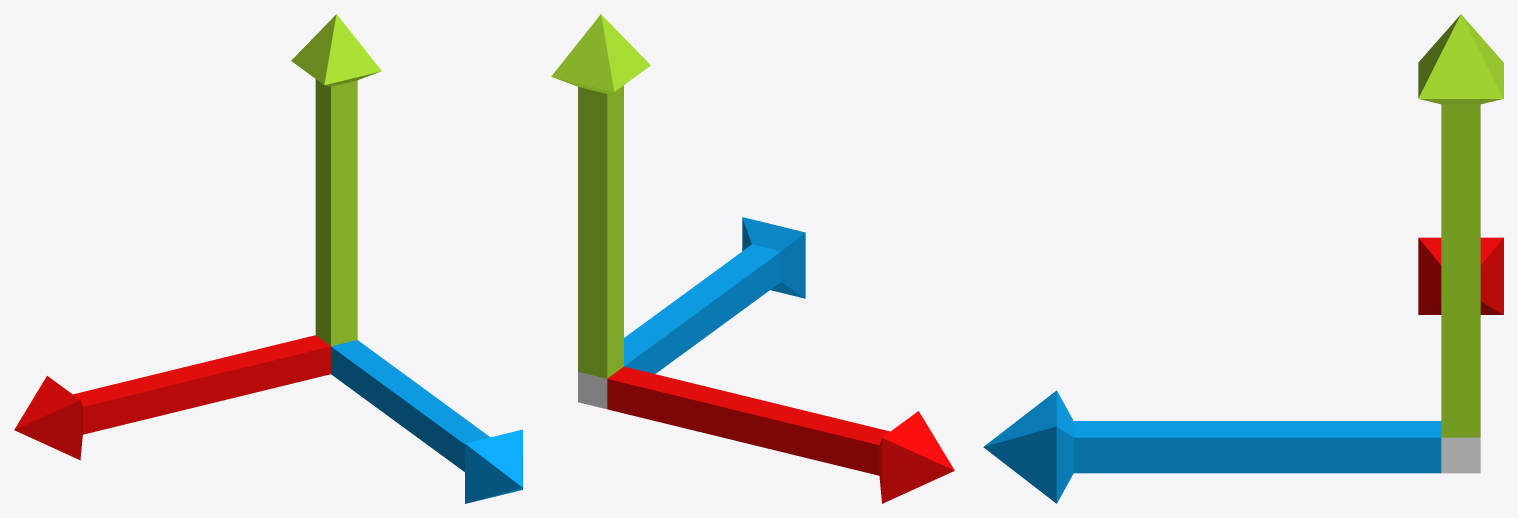
File: axis.glb
3 views of the same model, side by side, from view 1: azimuth 30°, elevation 25°; view 2: azimuth 150°, elevation 25°; view 3: azimuth 270°, elevation 25° (orthographic). The views are drawn at different scales.
Parts seen in each view (by area): view 1: axis; view 2: axis; view 3: axis.
Part boxes in pixels (left/top/right/bottom): axis: left=14, top=14, right=522, bottom=503; axis: left=551, top=14, right=954, bottom=503; axis: left=983, top=14, right=1503, bottom=503.
Size of the model in its own units: 1.42 by 1.42 by 1.42.
1 material, 1 textured.
